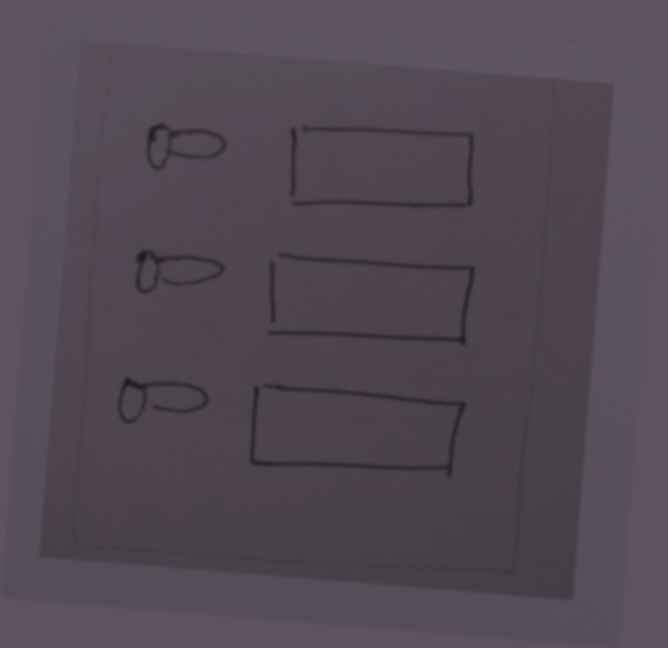switch: (122, 237, 233, 313), (134, 106, 235, 184), (107, 368, 215, 436)
text_input: (233, 369, 480, 492), (250, 236, 483, 361), (273, 111, 487, 229)
